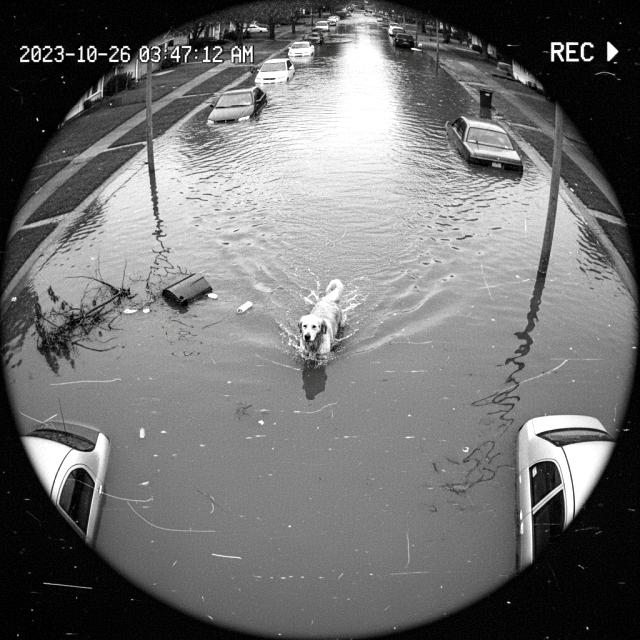dog: (292, 274, 354, 360)
